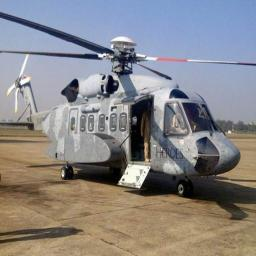helicopter: (2, 11, 256, 199)
